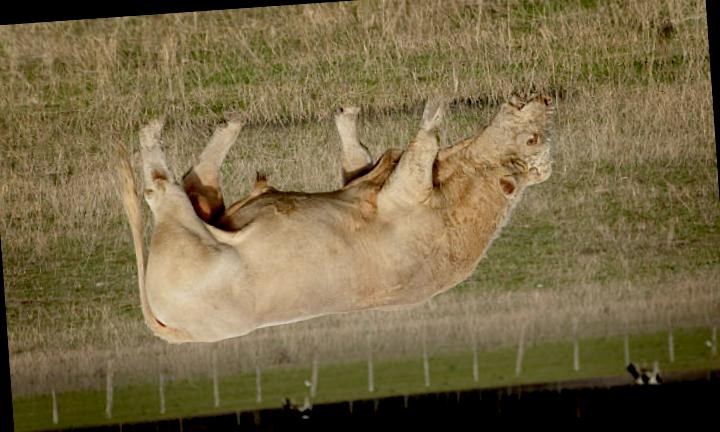Charolais: (119, 95, 555, 342)
